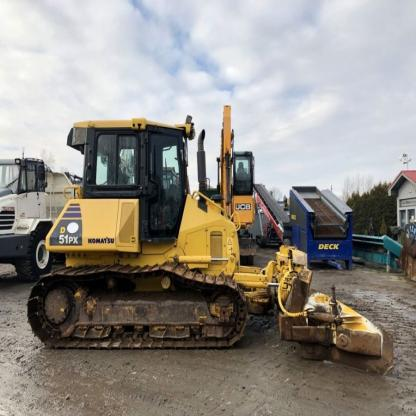bull_dozer/loader/grader: (26, 82, 410, 380)
